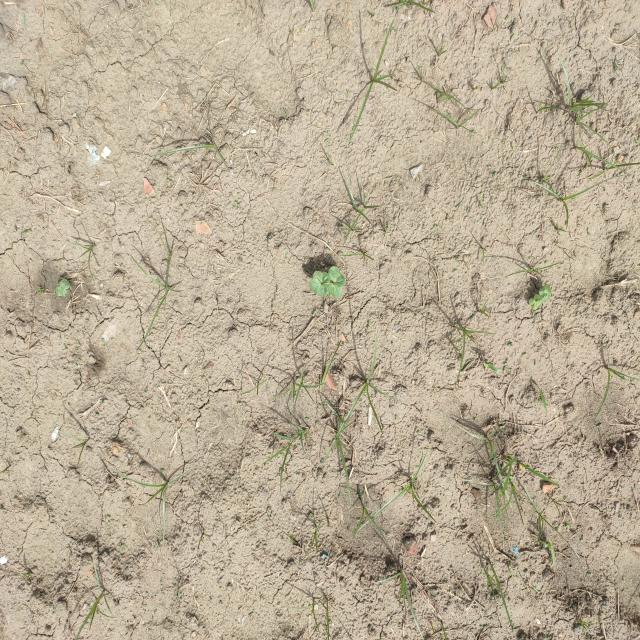seedling_s2: (328, 267, 345, 288), (54, 278, 71, 297), (310, 280, 327, 296), (326, 282, 342, 298), (313, 271, 330, 284), (539, 286, 549, 302), (529, 298, 538, 310), (534, 294, 541, 306), (545, 284, 551, 297)
